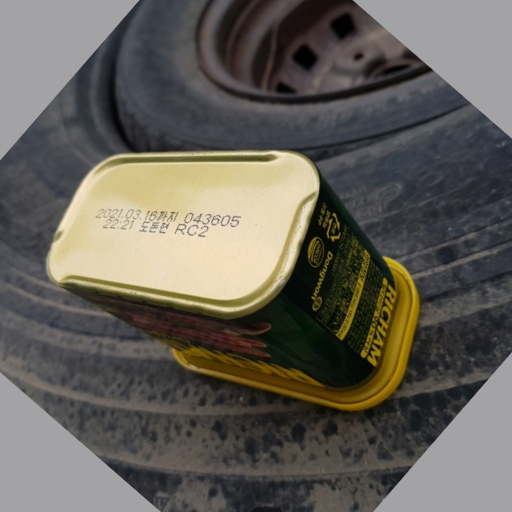Metal_2: (42, 144, 421, 411)
